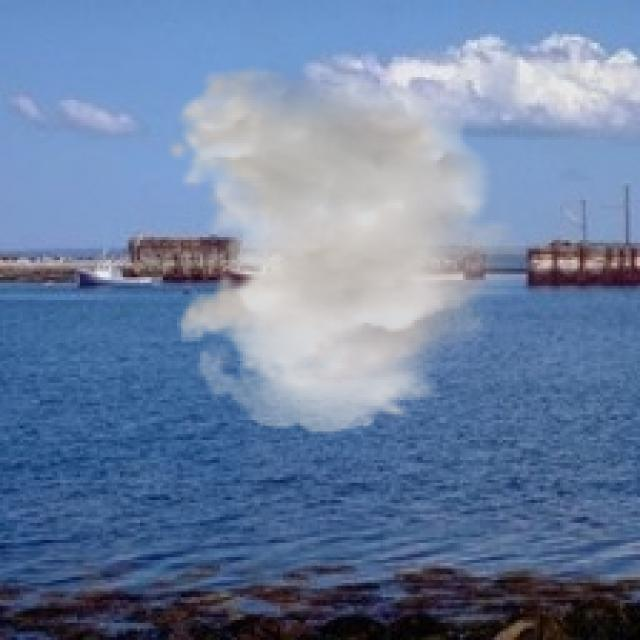smoke: (166, 66, 540, 434)
